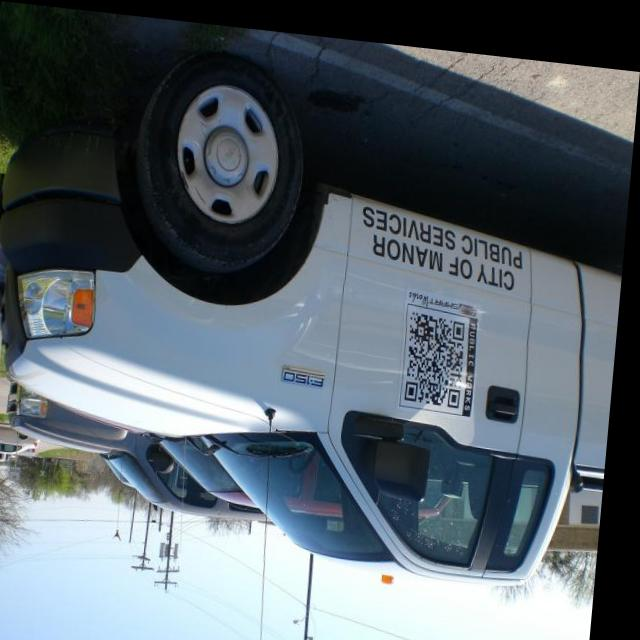qrcode: (410, 302, 473, 397)
